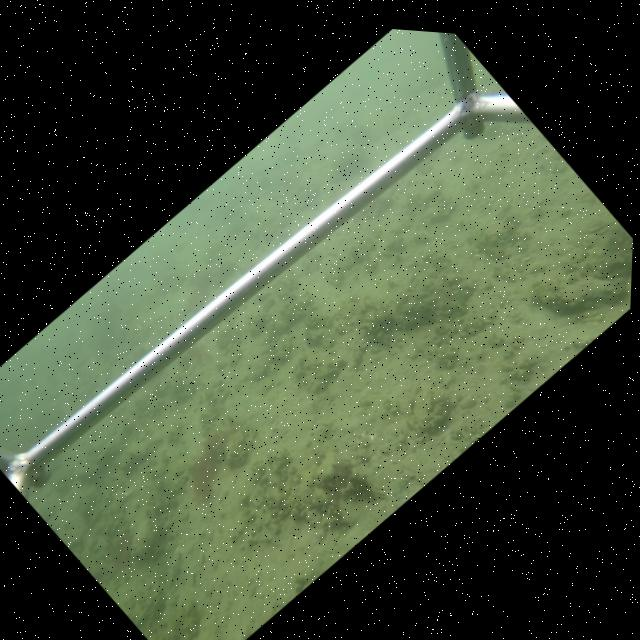Oyster-Closed: (532, 273, 631, 317)
Oyster-Open: (195, 405, 224, 429)
